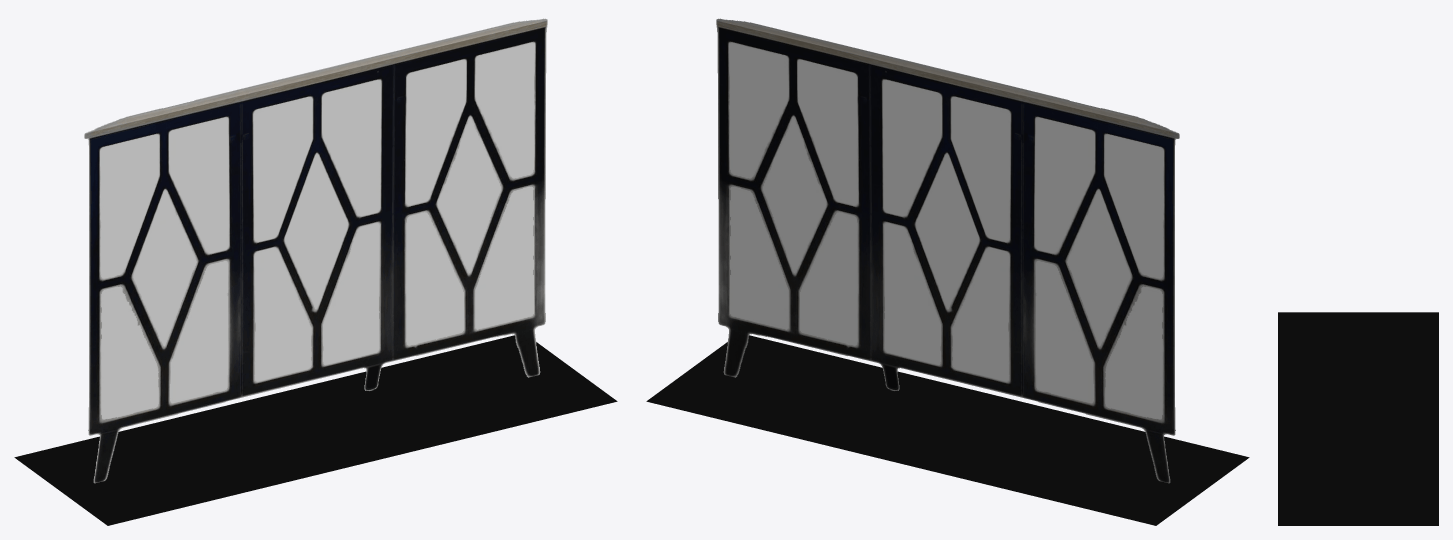
File: arm-628824e18f.glb
3 renders of one model, left to right at view 1: azimuth 30°, elevation 25°; view 2: azimuth 150°, elevation 25°; view 3: azimuth 270°, elevation 25°, orthographic. The views are drawn at different scales.
Size of the model in its own units: 1.32 by 0.8897 by 0.42.
Materials: 2 (2 with a texture image).
